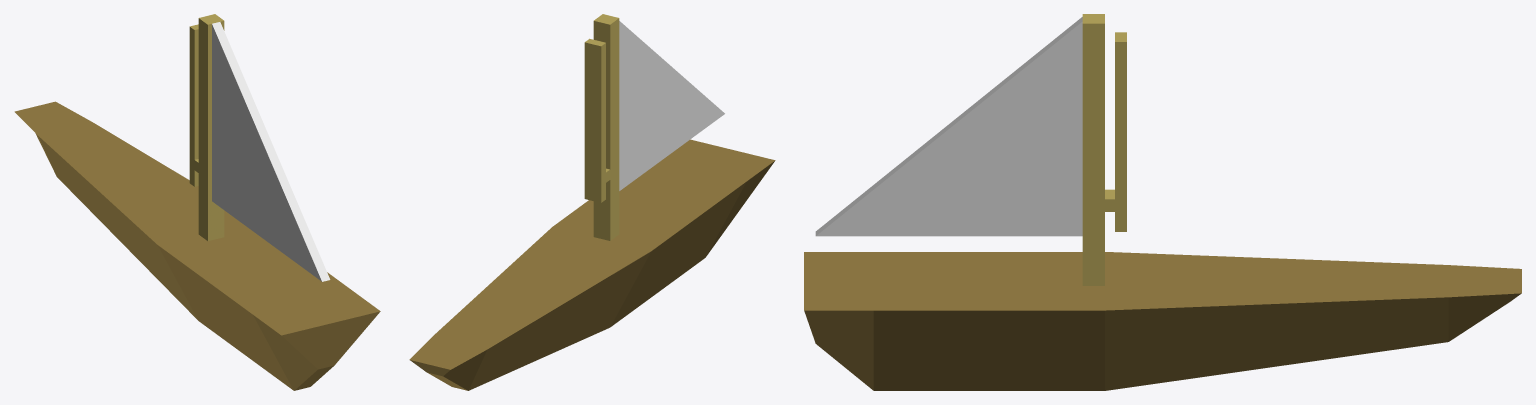
File: riverboat.glb
3 views of the same model, side by side, from view 1: azimuth 30°, elevation 25°; view 2: azimuth 150°, elevation 25°; view 3: azimuth 270°, elevation 25° (orthographic). The views are drawn at different scales.
Visible parts, largest first — view 1: Cube; view 2: Cube; view 3: Cube.
Boxes of the visible parts, x1=… form: Cube: x1=14, y1=14, x2=380, y2=390; Cube: x1=409, y1=14, x2=775, y2=390; Cube: x1=804, y1=14, x2=1521, y2=390.
Bounding box in the file's own units: 2.4 × 7 × 12.4.
